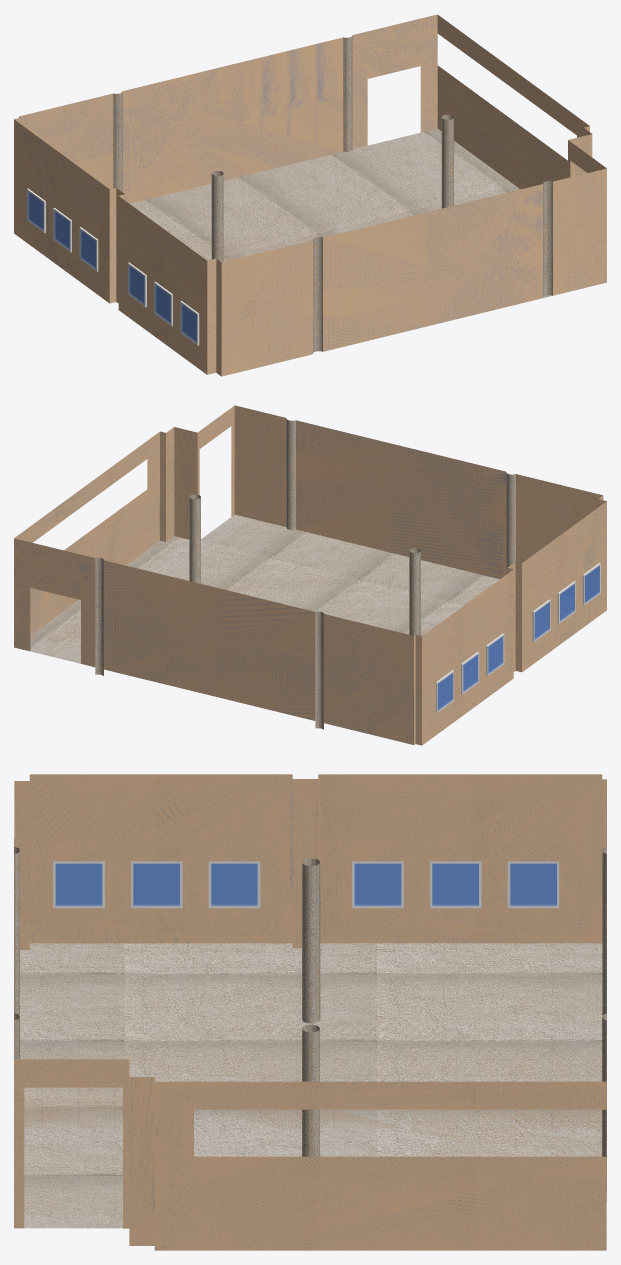
File: AUL025.obj
The picture shows the model from 3 angles, top to bottom: view 1: azimuth 30°, elevation 25°; view 2: azimuth 150°, elevation 25°; view 3: azimuth 270°, elevation 25°; orthographic projection. The views are drawn at different scales.
Visible parts, largest first — view 1: Mesh19 AUL025 Model, Mesh20 AUL025 Model, Mesh21 AUL025 Model, Mesh7 Group3 AUL025 Model, Mesh16 Group6 AUL025 Model, Mesh1 Group1 AUL025 Model, Mesh10 Group4 AUL025 Model, Mesh13 Group5 AUL025 Model, Mesh4 Group2 AUL025 Model; view 2: Mesh19 AUL025 Model, Mesh20 AUL025 Model, Mesh21 AUL025 Model, Mesh1 Group1 AUL025 Model, Mesh7 Group3 AUL025 Model, Mesh10 Group4 AUL025 Model, Mesh4 Group2 AUL025 Model, Mesh16 Group6 AUL025 Model, Mesh13 Group5 AUL025 Model; view 3: Mesh19 AUL025 Model, Mesh21 AUL025 Model, Mesh1 Group1 AUL025 Model, Mesh13 Group5 AUL025 Model, Mesh4 Group2 AUL025 Model, Mesh7 Group3 AUL025 Model, Mesh10 Group4 AUL025 Model, Mesh16 Group6 AUL025 Model, Mesh20 AUL025 Model.
Boxes of the visible parts, x1,y1,x2,y2 form: Mesh19 AUL025 Model: (14,14,606,376); Mesh20 AUL025 Model: (441,114,453,208); Mesh21 AUL025 Model: (211,170,223,262); Mesh7 Group3 AUL025 Model: (79,227,98,271); Mesh16 Group6 AUL025 Model: (180,301,199,345); Mesh1 Group1 AUL025 Model: (128,262,146,307); Mesh10 Group4 AUL025 Model: (154,281,172,326); Mesh13 Group5 AUL025 Model: (27,188,45,233); Mesh4 Group2 AUL025 Model: (53,208,71,252); Mesh19 AUL025 Model: (14,405,606,745); Mesh20 AUL025 Model: (189,494,200,583); Mesh21 AUL025 Model: (409,548,420,635); Mesh1 Group1 AUL025 Model: (532,599,550,642); Mesh7 Group3 AUL025 Model: (486,633,504,676); Mesh10 Group4 AUL025 Model: (557,581,575,623); Mesh4 Group2 AUL025 Model: (461,652,479,694); Mesh16 Group6 AUL025 Model: (582,563,600,605); Mesh13 Group5 AUL025 Model: (436,670,453,712); Mesh19 AUL025 Model: (14,774,606,1250); Mesh21 AUL025 Model: (302,858,320,1023); Mesh1 Group1 AUL025 Model: (208,861,260,908); Mesh13 Group5 AUL025 Model: (507,861,559,908); Mesh4 Group2 AUL025 Model: (430,861,481,908); Mesh7 Group3 AUL025 Model: (352,861,403,908); Mesh10 Group4 AUL025 Model: (131,861,182,908); Mesh16 Group6 AUL025 Model: (53,861,104,908); Mesh20 AUL025 Model: (302,1024,319,1156).
Bounding box in the file's own units: 14.08 × 3.85 × 11.44.
7 materials, 2 textured.
